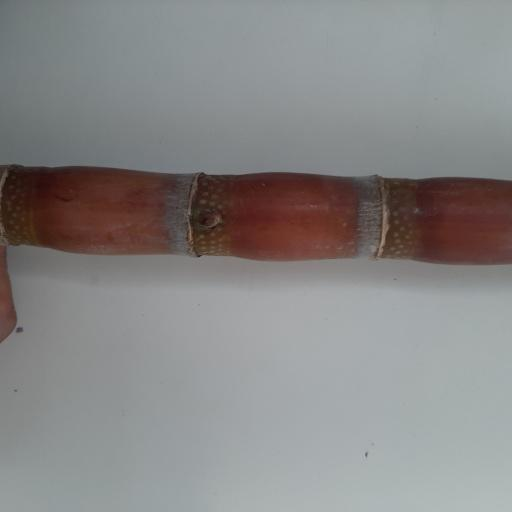Bud: (194, 208, 223, 230)
